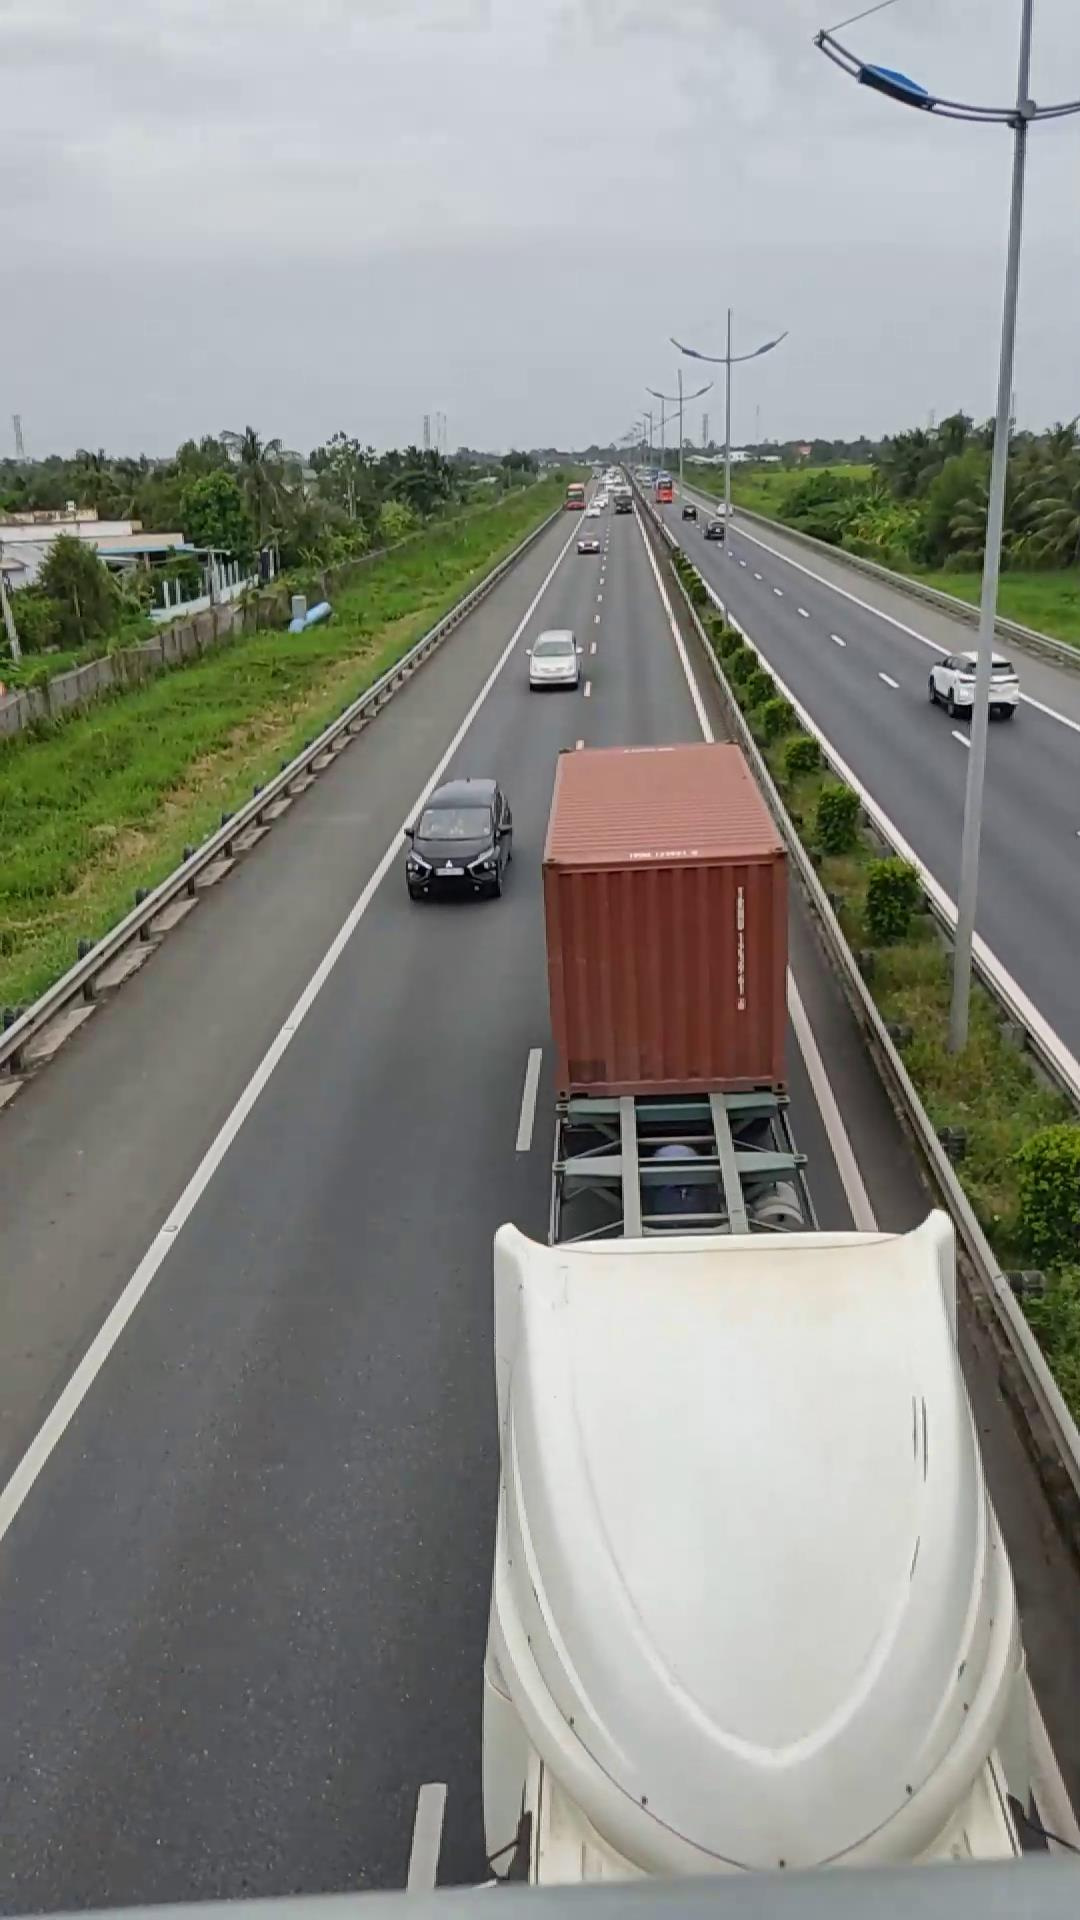car: (402, 775, 514, 899), (525, 628, 592, 690)
container: (462, 729, 1005, 1903)
